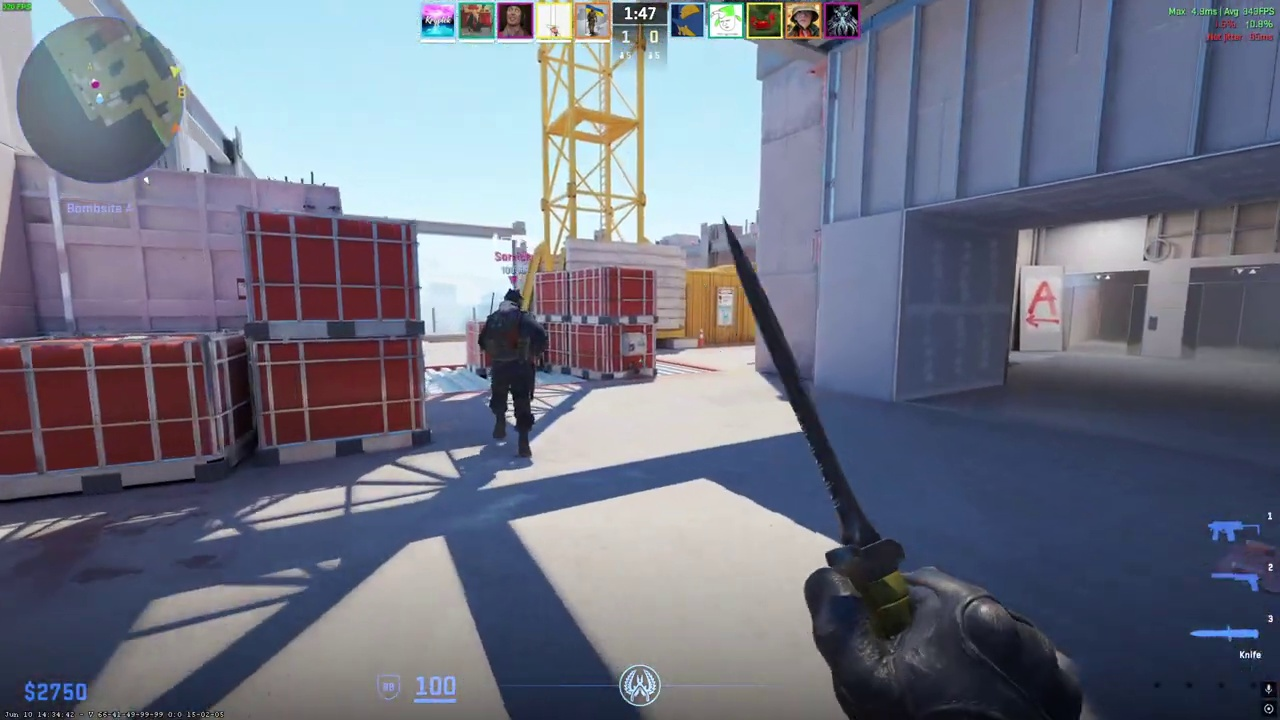CT: (483, 289, 542, 458)
